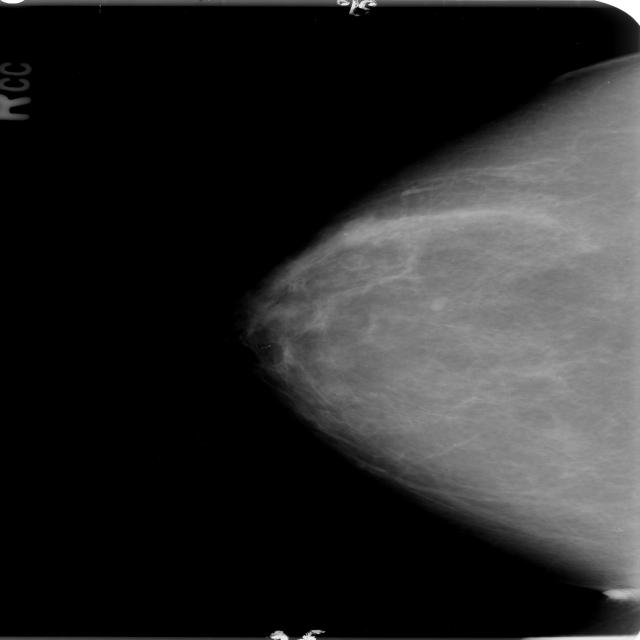normal: (221, 63, 640, 635)
